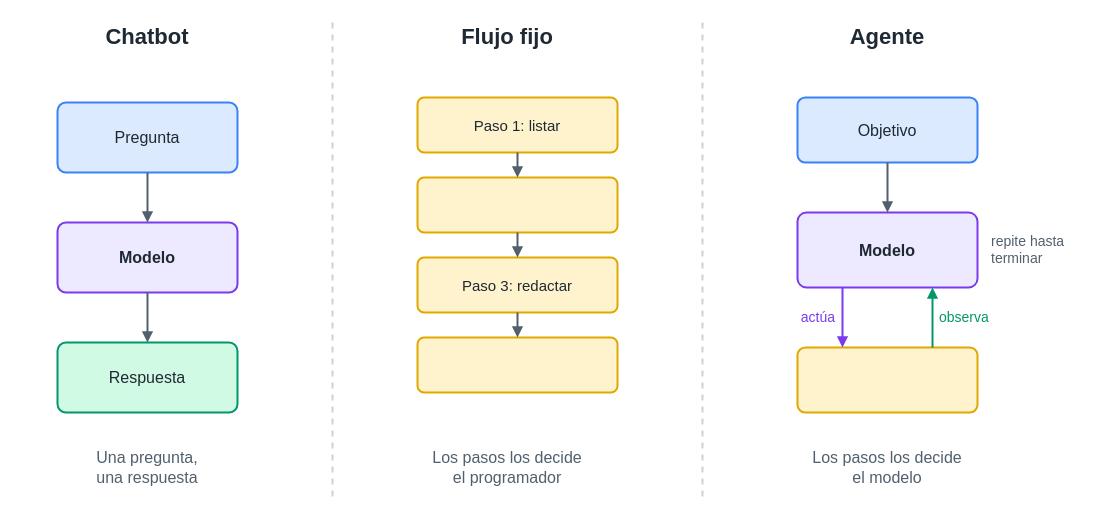
The diagram is 1116 pixels wide and 521 high, and some of its shapes have lost their labels. Here are the shapes that lost their labels. From the top down, the centre of each, then its label:
At point 517,204: "Paso 2: consultar".
At point 517,364: "Paso 4: guardar".
At point 887,379: "Herramientas".
